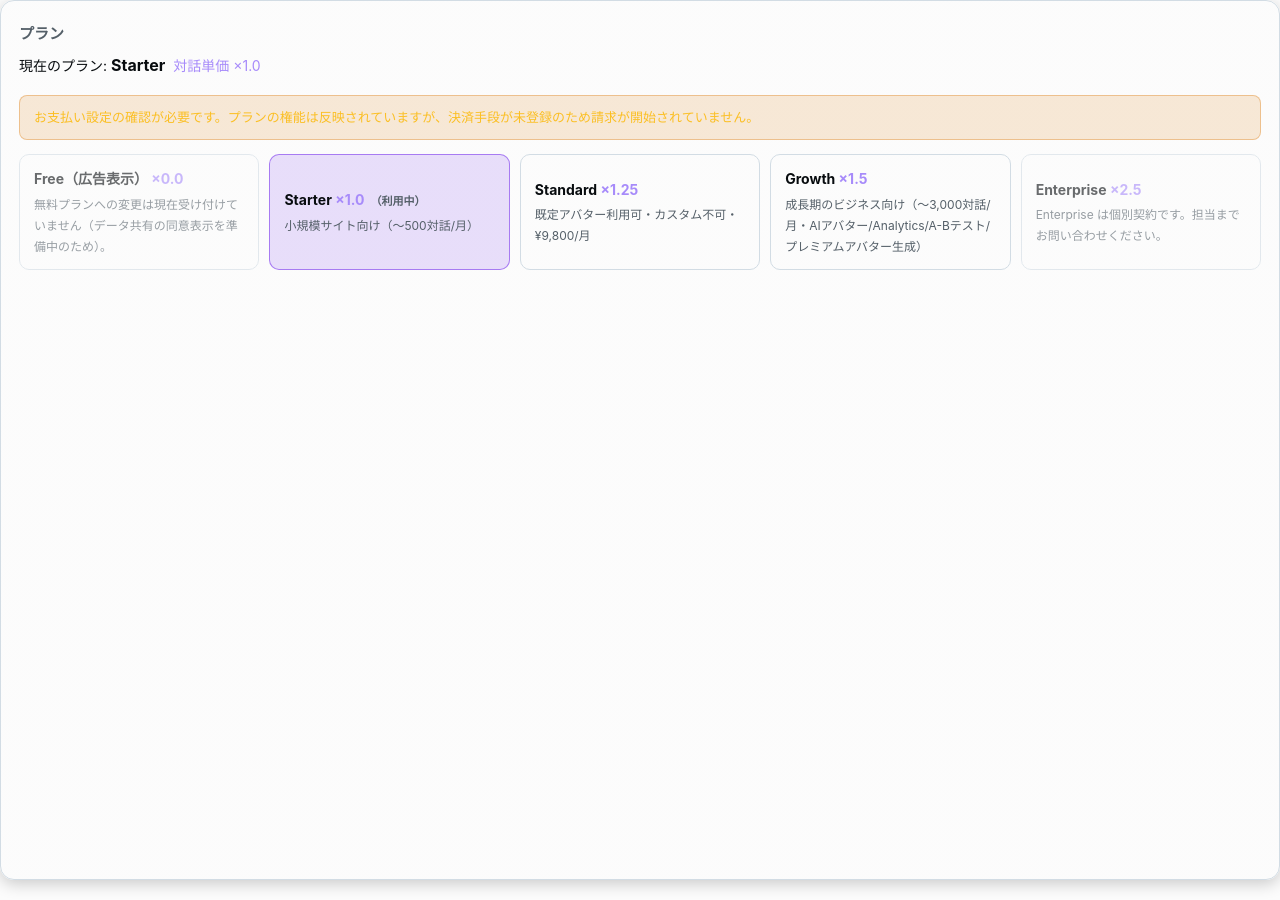
Test: PlanSection › プランを選んだだけでは変更されず、確認が出る
The width and height of the screenshot is (1280, 900).
Click the button "Growth".
click(890, 212)  # box [770, 154, 1011, 270]
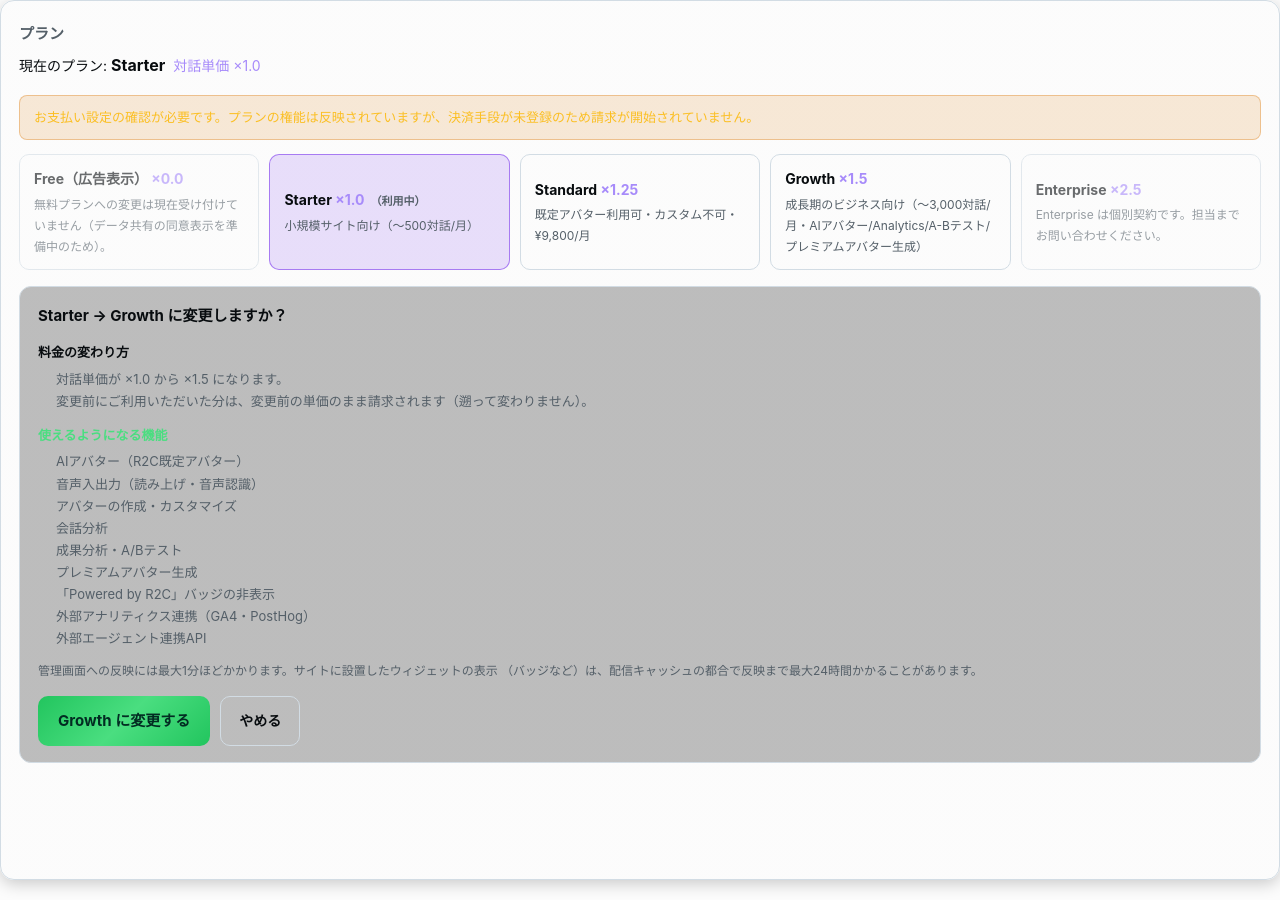
Check: the text "Starter → Growth に変更しますか？" is shown, box [38, 306, 288, 324]
